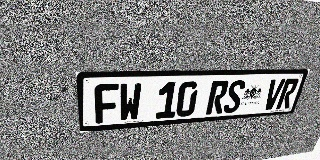0: (175, 81, 199, 117)
1: (156, 82, 179, 119)
F: (94, 83, 118, 124)
R: (206, 80, 230, 115), (276, 78, 300, 109)
S: (222, 80, 246, 113)
V: (262, 79, 286, 110)
W: (119, 83, 142, 122)
